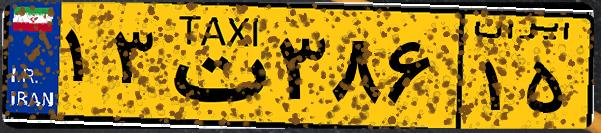1: (57, 26, 110, 100), (475, 38, 525, 113)
3: (270, 28, 330, 110), (110, 28, 158, 98)
5: (525, 38, 570, 115)
6: (385, 28, 445, 110)
8: (330, 28, 385, 110)
ت: (158, 12, 270, 120)
